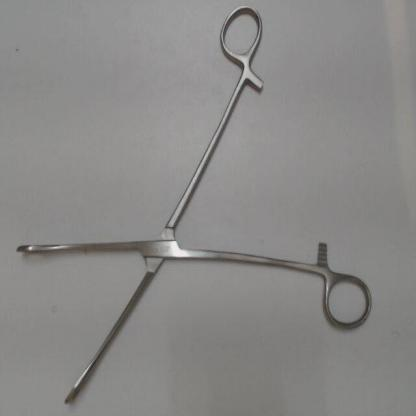Sponge Forceps: (10, 4, 378, 409)
